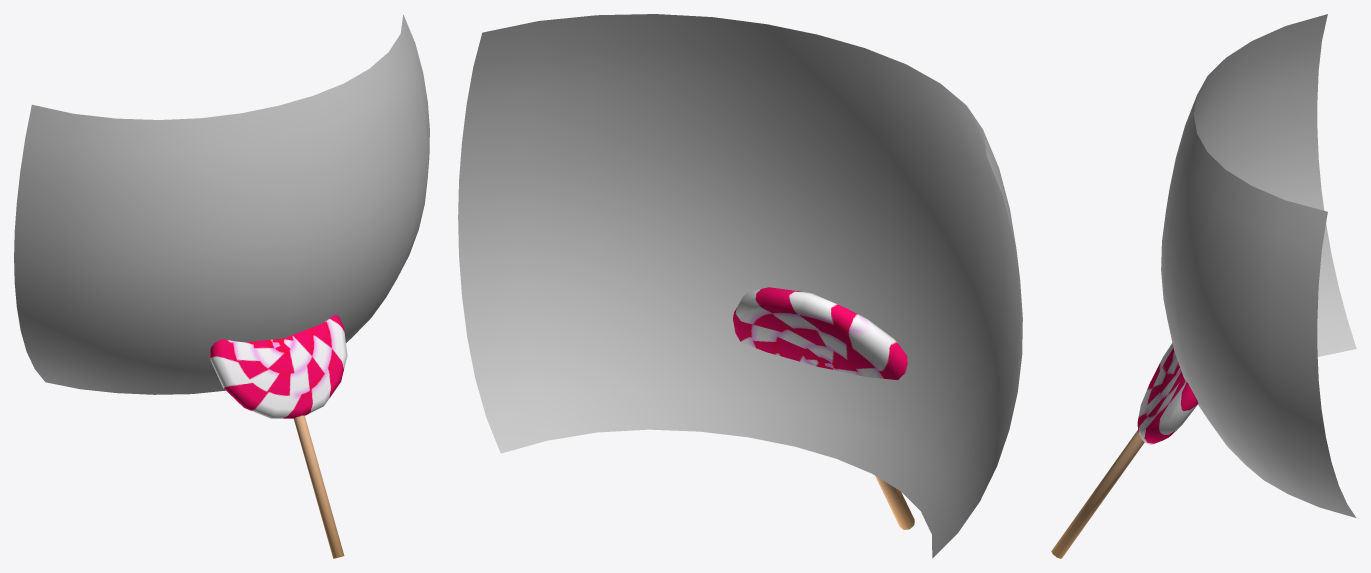
Rendered from Candy Face.fbx.
3 views of the same model, side by side, from view 1: azimuth 30°, elevation 25°; view 2: azimuth 150°, elevation 25°; view 3: azimuth 270°, elevation 25° (orthographic). The views are drawn at different scales.
Parts seen in each view (by area): view 1: Candy Face; view 2: Candy Face; view 3: Candy Face.
Boxes of the visible parts, <box> form: Candy Face: <box>14,15,429,558</box>; Candy Face: <box>458,14,1022,558</box>; Candy Face: <box>1051,14,1356,558</box>.
Size of the model in its own units: 55.82 by 52.55 by 32.58.
